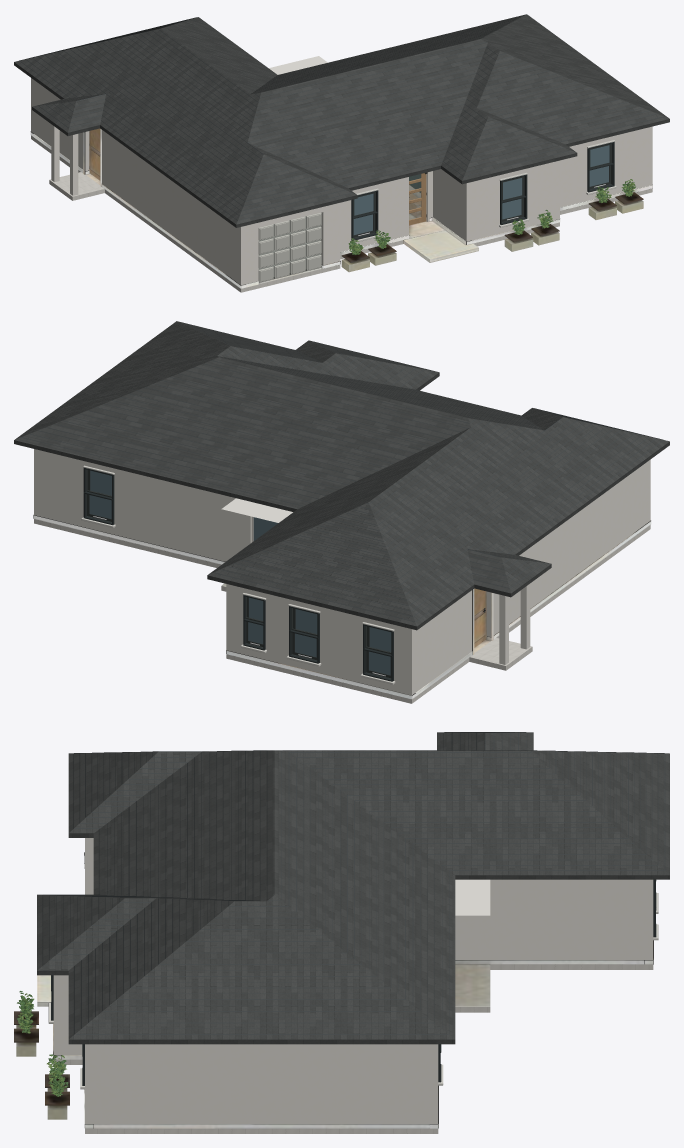
The model's file is utah-exterior-v2.glb.
The picture shows the model from 3 angles, top to bottom: view 1: azimuth 30°, elevation 25°; view 2: azimuth 150°, elevation 25°; view 3: azimuth 270°, elevation 25°; orthographic projection. The views are drawn at different scales.
Parts seen in each view (by area): view 1: [Roofing Shingles GAF Estates] · 2026 finish, <auto>1 · 2026 finish, Exterior / asphalt shingle edges, Baked interior, Exterior / satin garage panels, Concrete_02_1K, Utah · vidrio claro, Exterior / graphite window rebates, RPC · Herrajes grafito, RPC · Garaje · acero pintado greige, [Color A04] · 2026 finish, RPC · Cielo raso blanco (+4 smaller); view 2: [Roofing Shingles GAF Estates] · 2026 finish, <auto>1 · 2026 finish, Exterior / asphalt shingle edges, Concrete_02_1K, Baked interior, Utah · vidrio claro, Exterior / graphite window rebates, RPC · Herrajes grafito, RPC · Cielo raso blanco, Exterior / limestone sills; view 3: [Roofing Shingles GAF Estates] · 2026 finish, <auto>1 · 2026 finish, Exterior / asphalt shingle edges, Baked interior, Concrete_02_1K, RPC · Cielo raso blanco, Exterior / graphite window rebates.
Boxes of the visible parts, x1,y1,x2,y2 form: [Roofing Shingles GAF Estates] · 2026 finish: [14, 14, 669, 227]; <auto>1 · 2026 finish: [31, 78, 652, 285]; Exterior / asphalt shingle edges: [19, 15, 663, 220]; Baked interior: [30, 128, 652, 288]; Exterior / satin garage panels: [258, 212, 321, 282]; Concrete_02_1K: [31, 135, 652, 292]; Utah · vidrio claro: [353, 145, 609, 234]; Exterior / graphite window rebates: [351, 142, 614, 240]; RPC · Herrajes grafito: [353, 143, 612, 238]; RPC · Garaje · acero pintado greige: [258, 216, 321, 278]; [Color A04] · 2026 finish: [409, 173, 426, 225]; RPC · Cielo raso blanco: [269, 56, 327, 74]; [Roofing Shingles GAF Estates] · 2026 finish: [14, 321, 669, 630]; <auto>1 · 2026 finish: [34, 390, 650, 695]; Exterior / asphalt shingle edges: [21, 322, 663, 621]; Concrete_02_1K: [34, 519, 650, 703]; Baked interior: [33, 515, 651, 699]; Utah · vidrio claro: [89, 470, 391, 675]; Exterior / graphite window rebates: [83, 467, 393, 681]; RPC · Herrajes grafito: [86, 469, 391, 678]; RPC · Cielo raso blanco: [221, 498, 292, 522]; Exterior / limestone sills: [81, 465, 395, 684]; [Roofing Shingles GAF Estates] · 2026 finish: [37, 732, 669, 1044]; <auto>1 · 2026 finish: [53, 838, 653, 1123]; Exterior / asphalt shingle edges: [42, 732, 665, 1034]; Baked interior: [14, 852, 653, 1128]; Concrete_02_1K: [53, 964, 653, 1133]; RPC · Cielo raso blanco: [455, 879, 490, 915]; Exterior / graphite window rebates: [51, 879, 656, 1085].
Size of the model in its own units: 17.58 by 4.59 by 15.85.
Materials: 30 (7 with a texture image).
